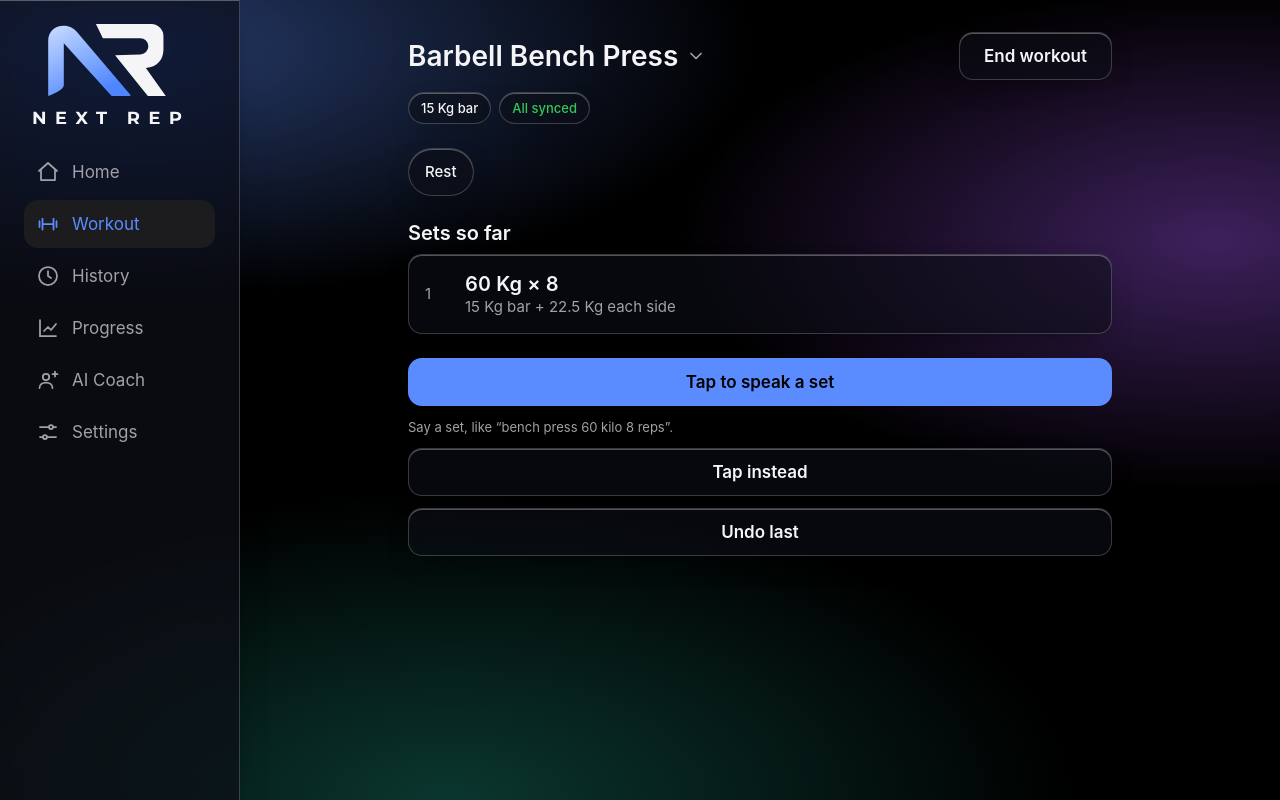
Scenario: undoing the last set › keeps the set and says so when the server cannot be reached
Click the button "Undo last" at (760, 532), box left=408, top=508, right=1112, bottom=556
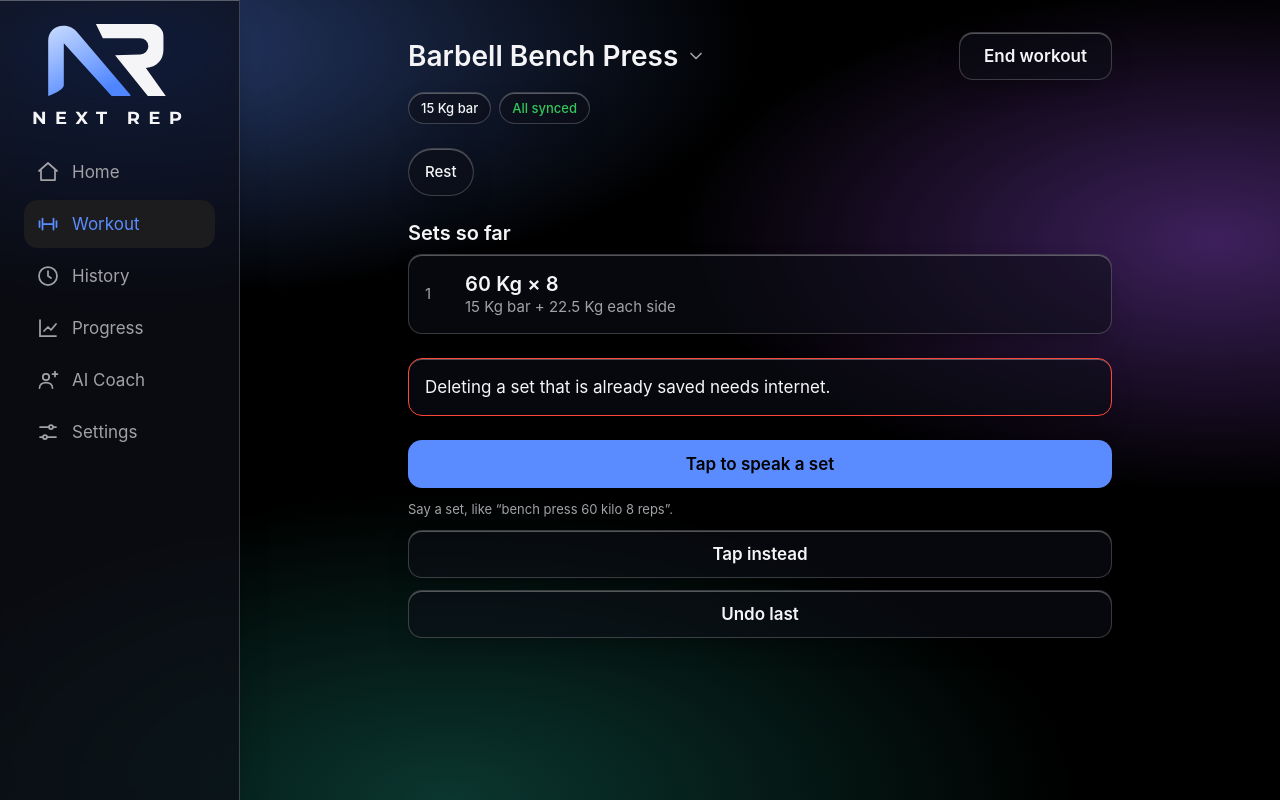
Expected: the message "Deleting a set that is already saved needs internet." is shown, left=408, top=358, right=1112, bottom=416
